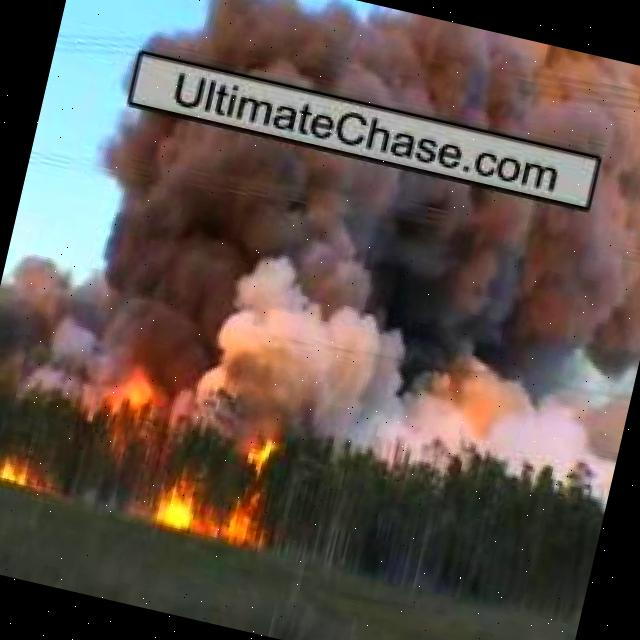fire: (160, 414, 286, 550), (102, 347, 177, 424), (0, 449, 38, 488)
